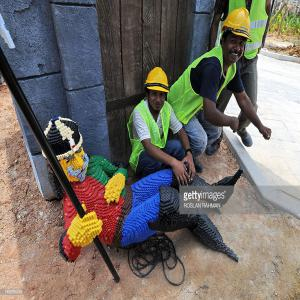yellow: (223, 9, 252, 62), (147, 69, 168, 111)
